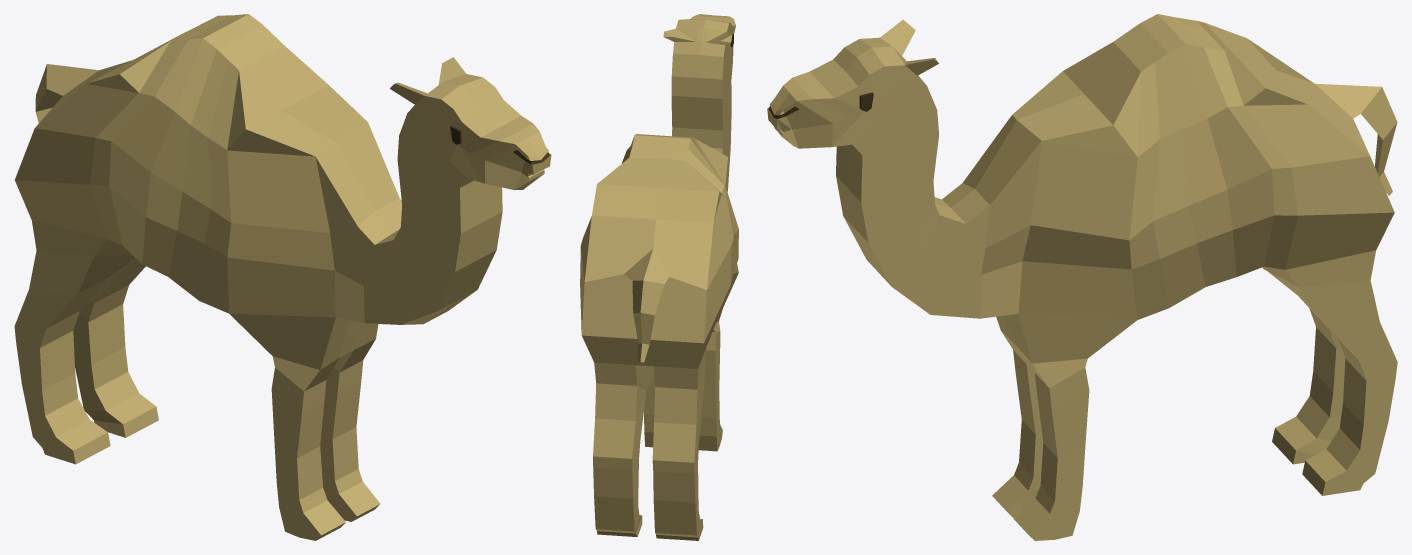
File: camel.fbx
3 renders of one model, left to right at view 1: azimuth 30°, elevation 25°; view 2: azimuth 150°, elevation 25°; view 3: azimuth 270°, elevation 25°, orthographic. The views are drawn at different scales.
Parts seen in each view (by area): view 1: Standing Pose; view 2: Standing Pose; view 3: Standing Pose.
Part boxes in pixels (left/top/right/bottom): Standing Pose: left=14, top=14, right=551, bottom=540; Standing Pose: left=580, top=14, right=738, bottom=540; Standing Pose: left=767, top=14, right=1397, bottom=540.
Size of the model in its own units: 207 by 359 by 409.
